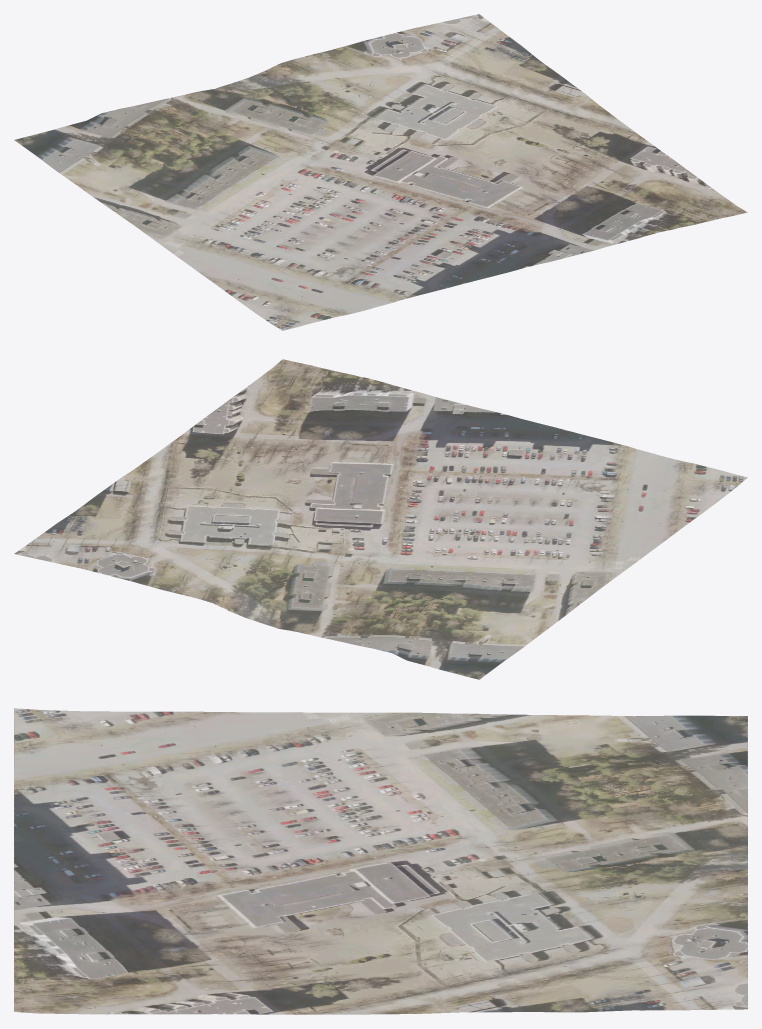
Rendered from CM_Terrain_24491892_6815084.fbx.
3 renders of one model, top to bottom at view 1: azimuth 30°, elevation 25°; view 2: azimuth 150°, elevation 25°; view 3: azimuth 270°, elevation 25°, orthographic. The views are drawn at different scales.
Visible parts, largest first — view 1: CM_Terrain_24491892_6815084_LOD0; view 2: CM_Terrain_24491892_6815084_LOD0; view 3: CM_Terrain_24491892_6815084_LOD0.
Part boxes in pixels (x1,y1,x2,y2): CM_Terrain_24491892_6815084_LOD0: (14,14,747,330); CM_Terrain_24491892_6815084_LOD0: (14,359,747,679); CM_Terrain_24491892_6815084_LOD0: (14,708,747,1014).
Size of what is drawn, in the model's own units: 205 by 6.04 by 205.
